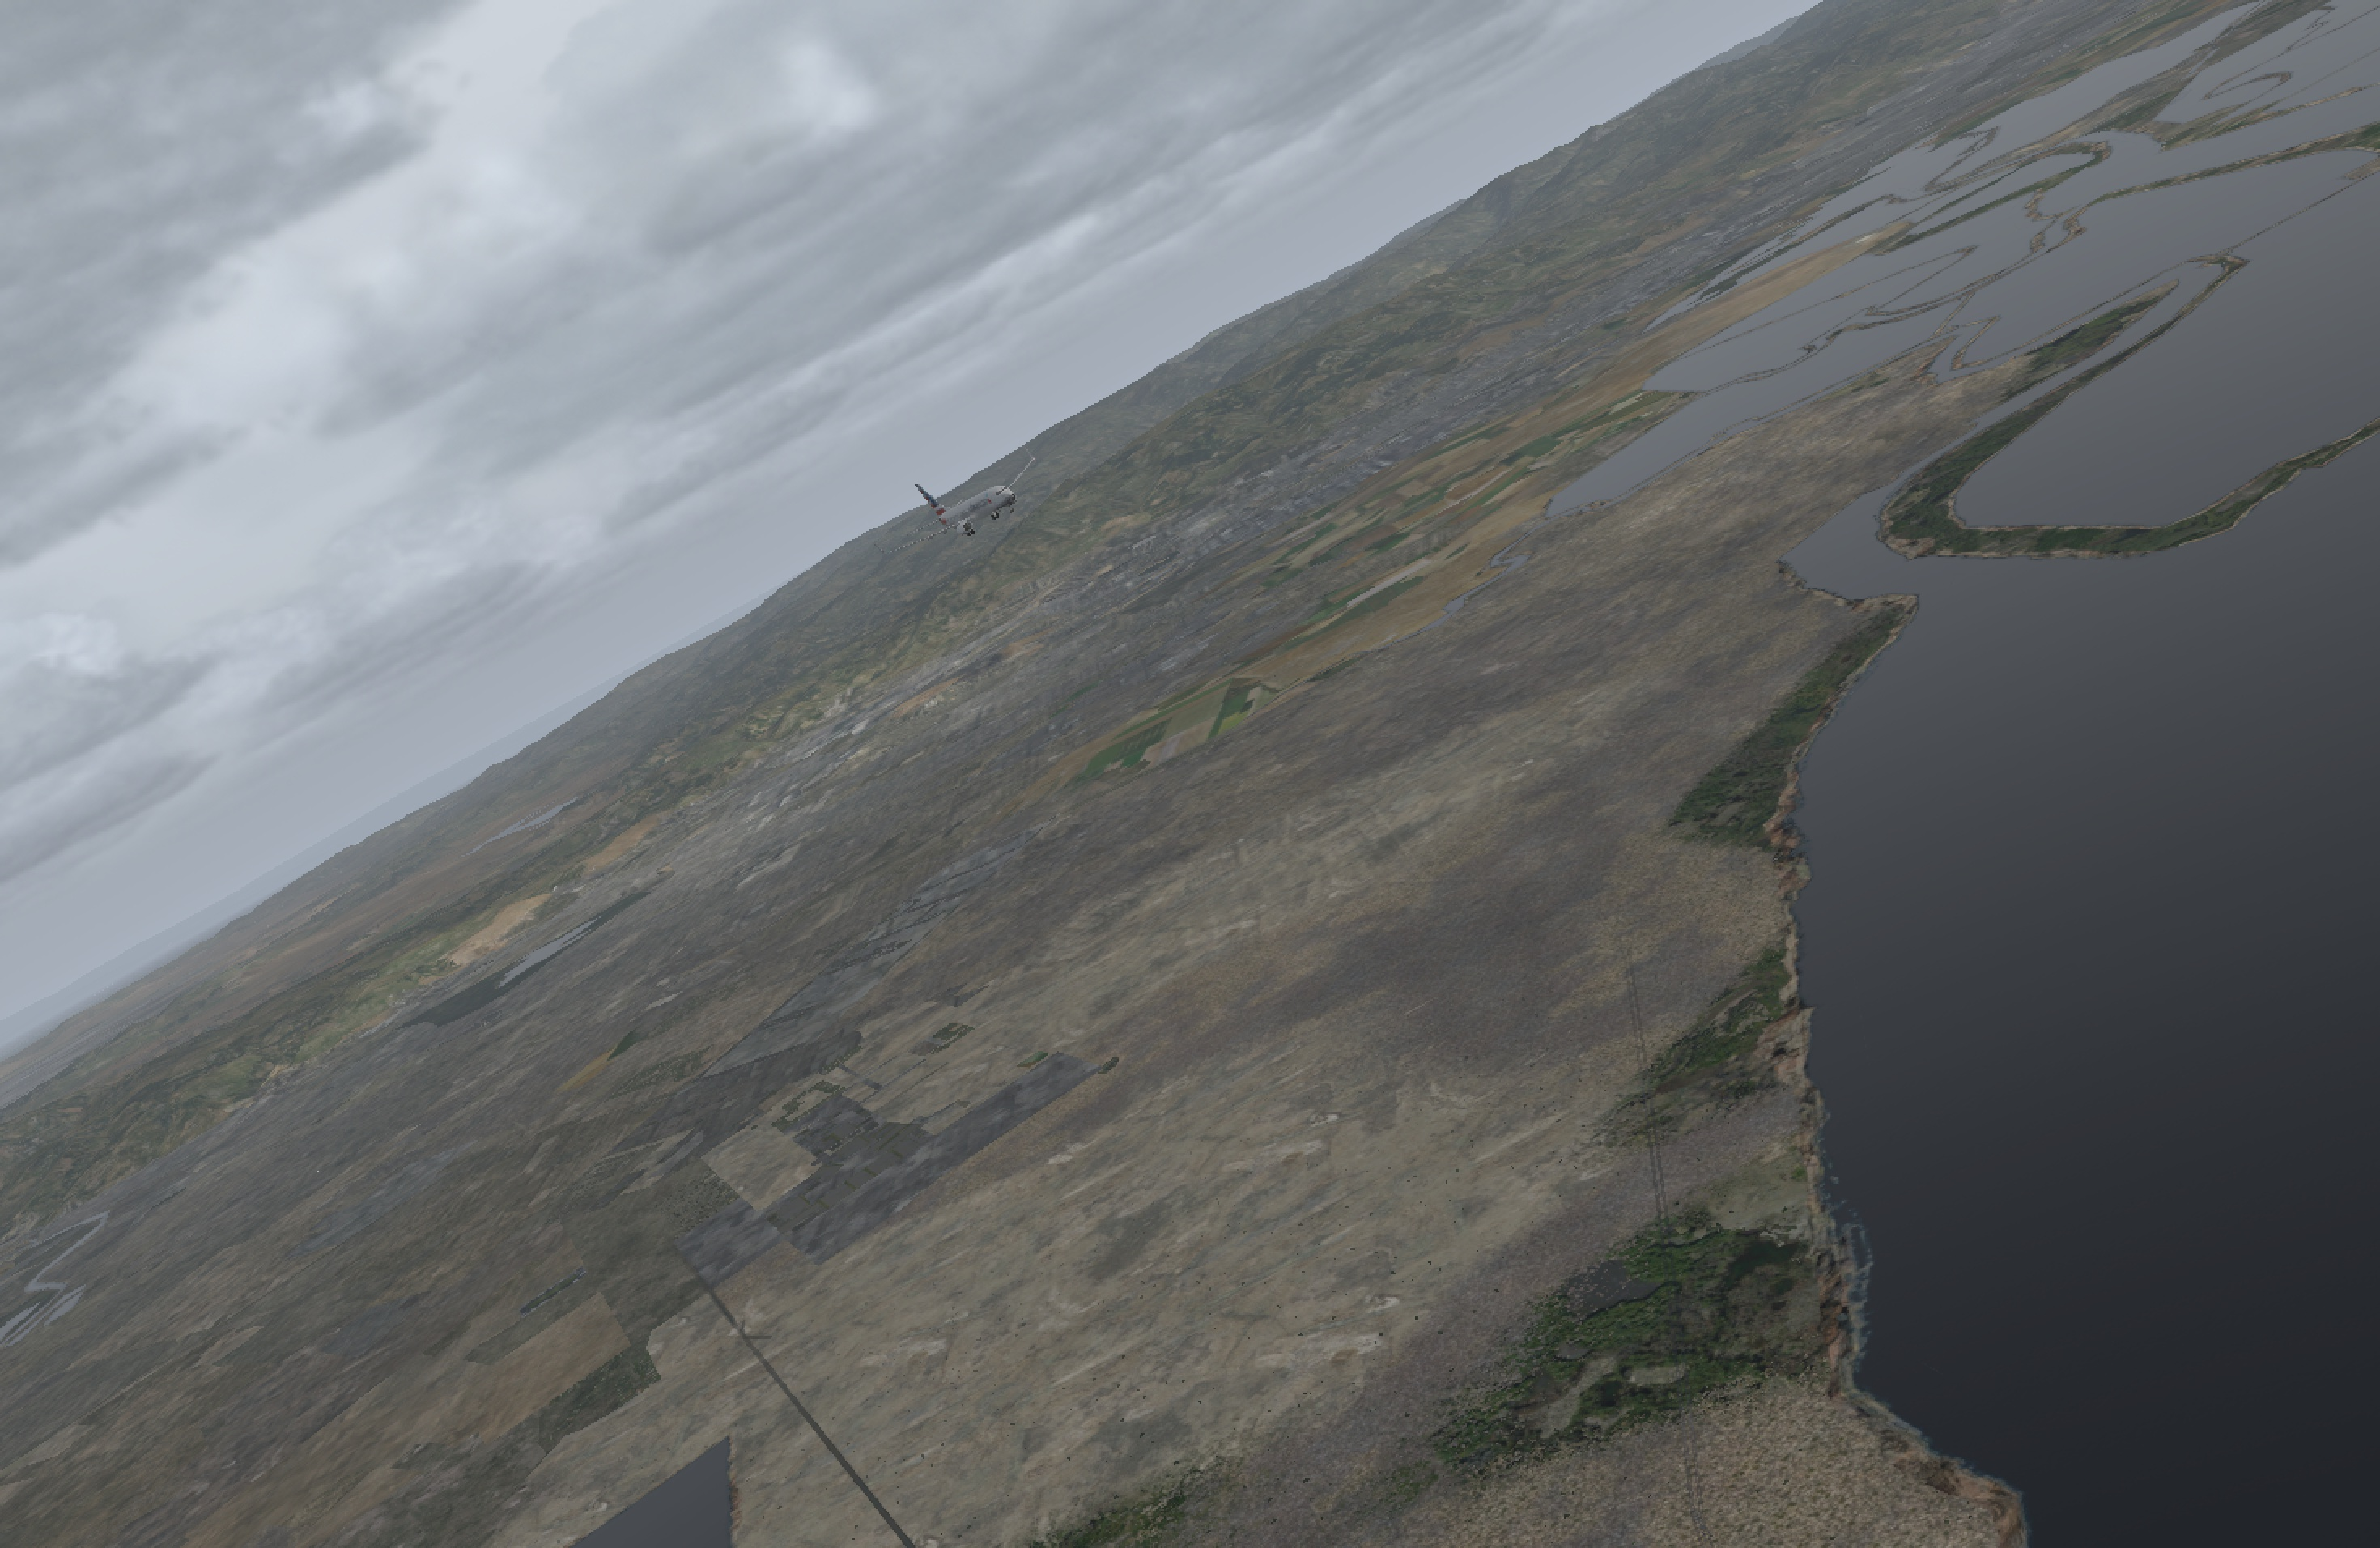aircraft: (869, 470, 1086, 552)
